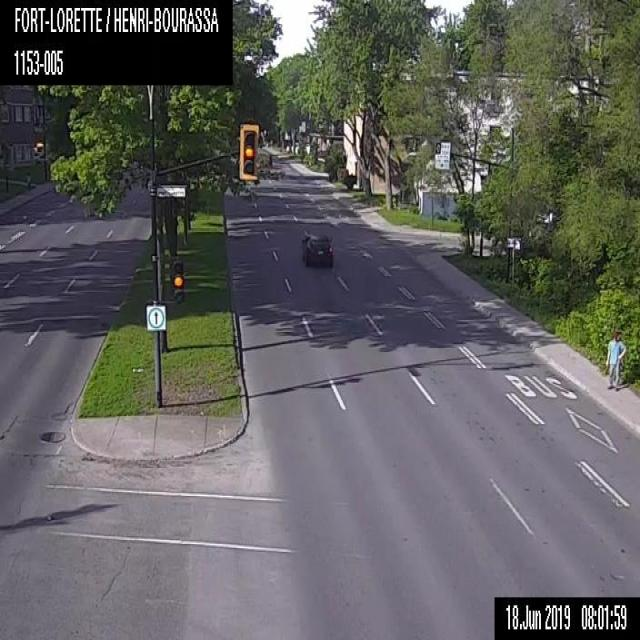pedestrian: (606, 331, 626, 389)
vehicle: (301, 232, 334, 268)
